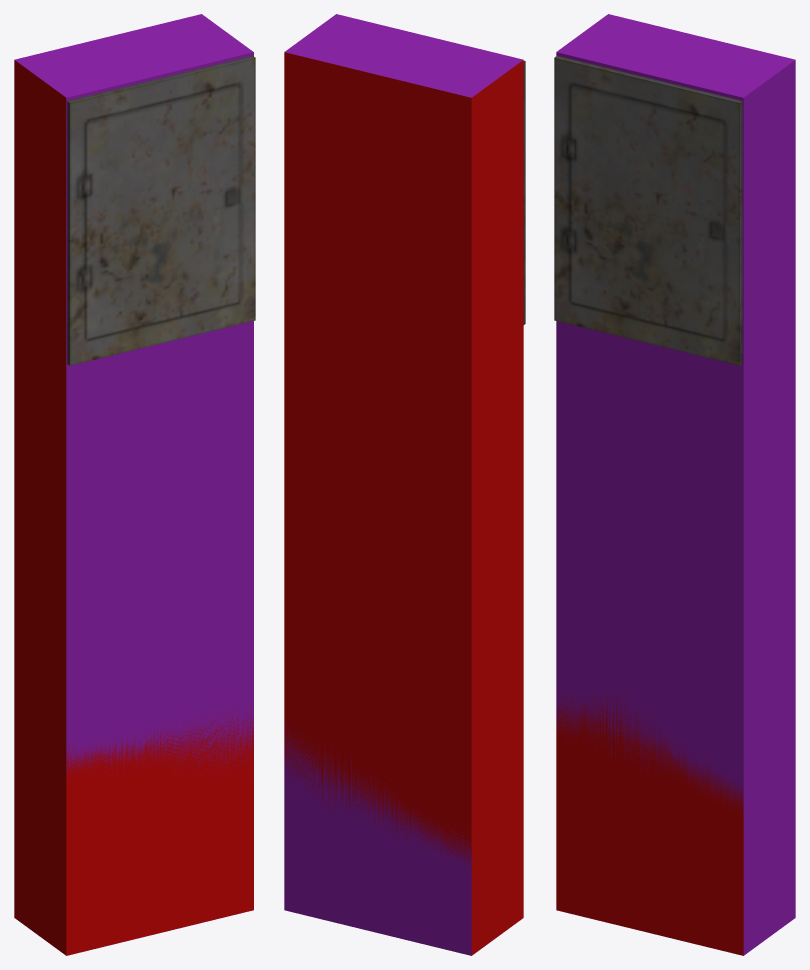
File: SciFi_fusebox_02.DAE
3 renders of one model, left to right at view 1: azimuth 30°, elevation 25°; view 2: azimuth 150°, elevation 25°; view 3: azimuth 330°, elevation 25°, orthographic.
Parts seen in each view (by area): view 1: bounds, colbox-01, fuse_box_two; view 2: colbox-01, bounds, fuse_box_two; view 3: bounds, fuse_box_two, colbox-01.
Boxes of the visible parts, x1=… form: bounds: x1=15, y1=14, x2=253, y2=955; colbox-01: x1=14, y1=60, x2=253, y2=955; fuse_box_two: x1=67, y1=56, x2=255, y2=365; colbox-01: x1=284, y1=52, x2=523, y2=955; bounds: x1=284, y1=14, x2=523, y2=955; fuse_box_two: x1=523, y1=60, x2=525, y2=324; bounds: x1=556, y1=14, x2=795, y2=955; fuse_box_two: x1=554, y1=56, x2=742, y2=365; colbox-01: x1=556, y1=682, x2=743, y2=955.
Size of the model in its own units: 59.19 by 29.95 by 259.
